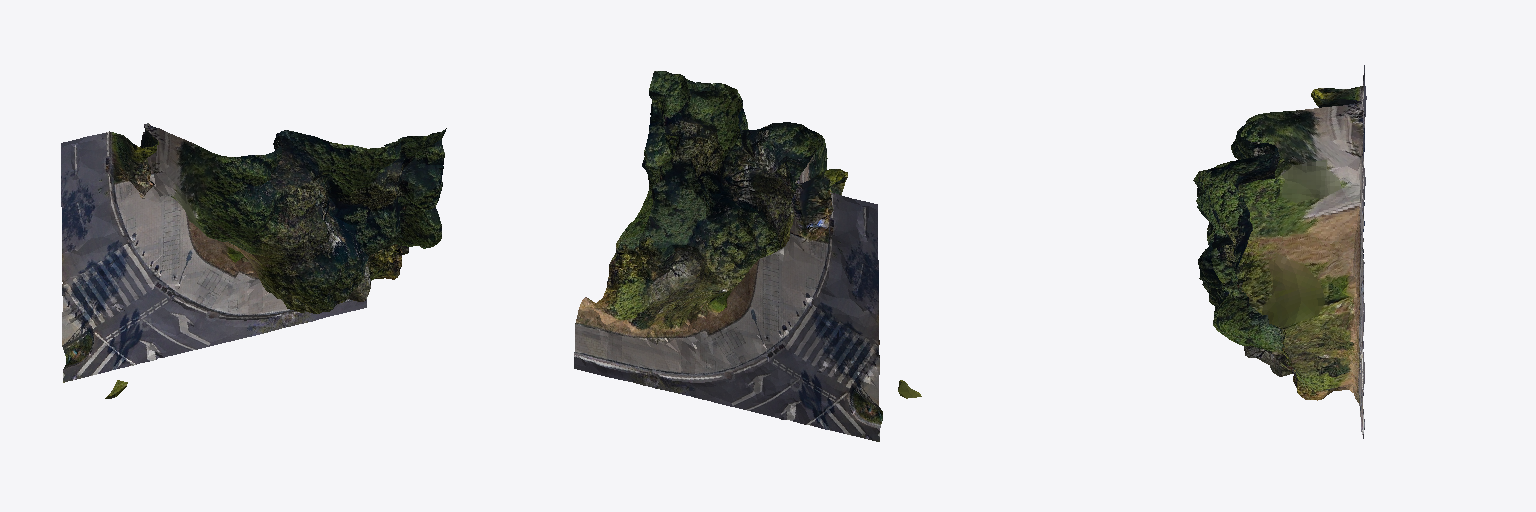
3 views of the same model, side by side, from view 1: azimuth 30°, elevation 25°; view 2: azimuth 150°, elevation 25°; view 3: azimuth 270°, elevation 25° (orthographic).
Size of the model in its own units: 33.11 by 24.76 by 16.28.
1 materials, 1 textured.